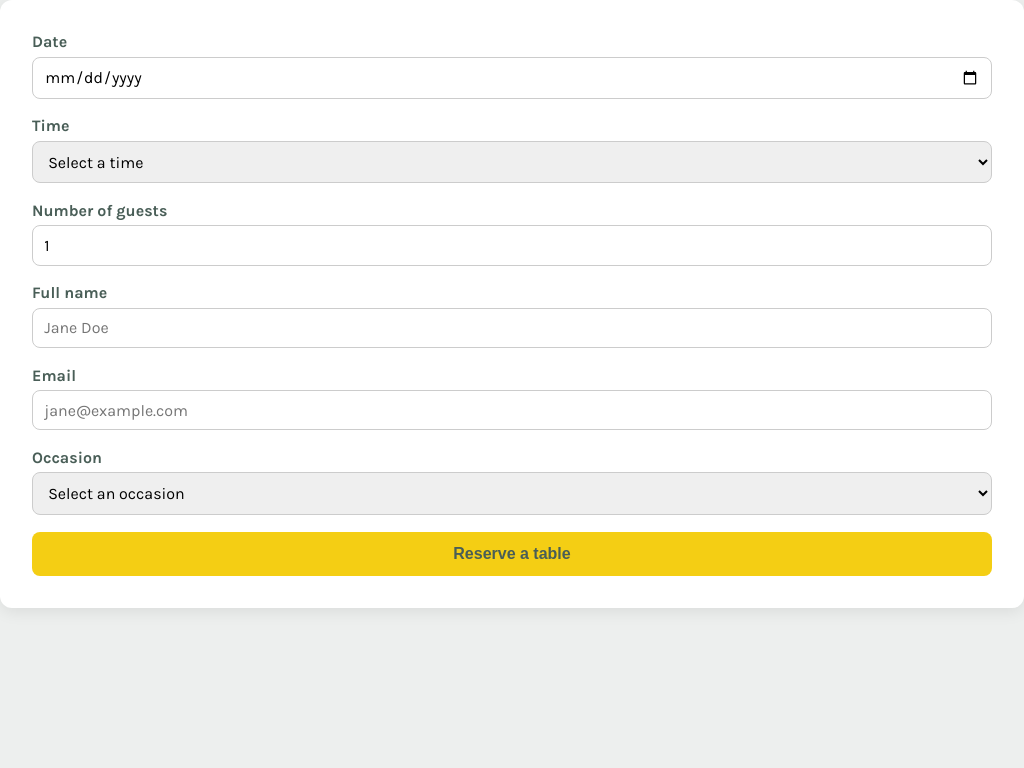
BookingForm validation › shows validation errors when submitting empty form
Click the button "Reserve a table": (512,554) [32,532,992,576]
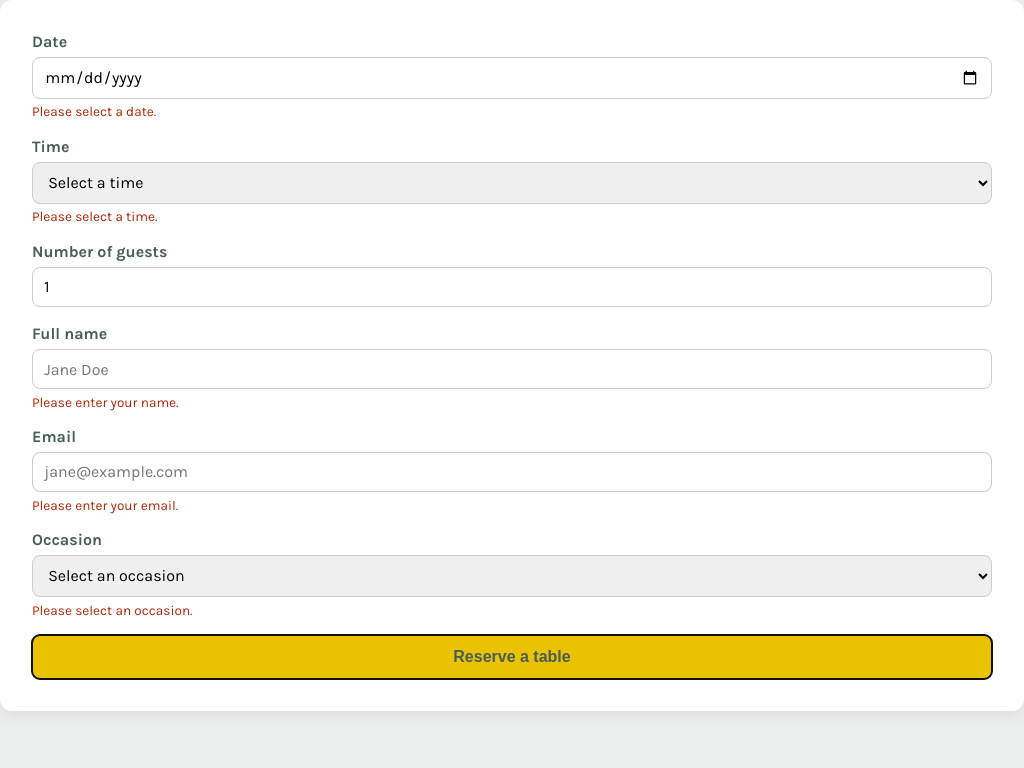
expect the text "Please select a date." is shown: met, box [32,104,156,119]
expect the text "Please select a time." is shown: met, box [32,209,157,224]
expect the text "Please enter your name." is shown: met, box [32,395,178,410]
